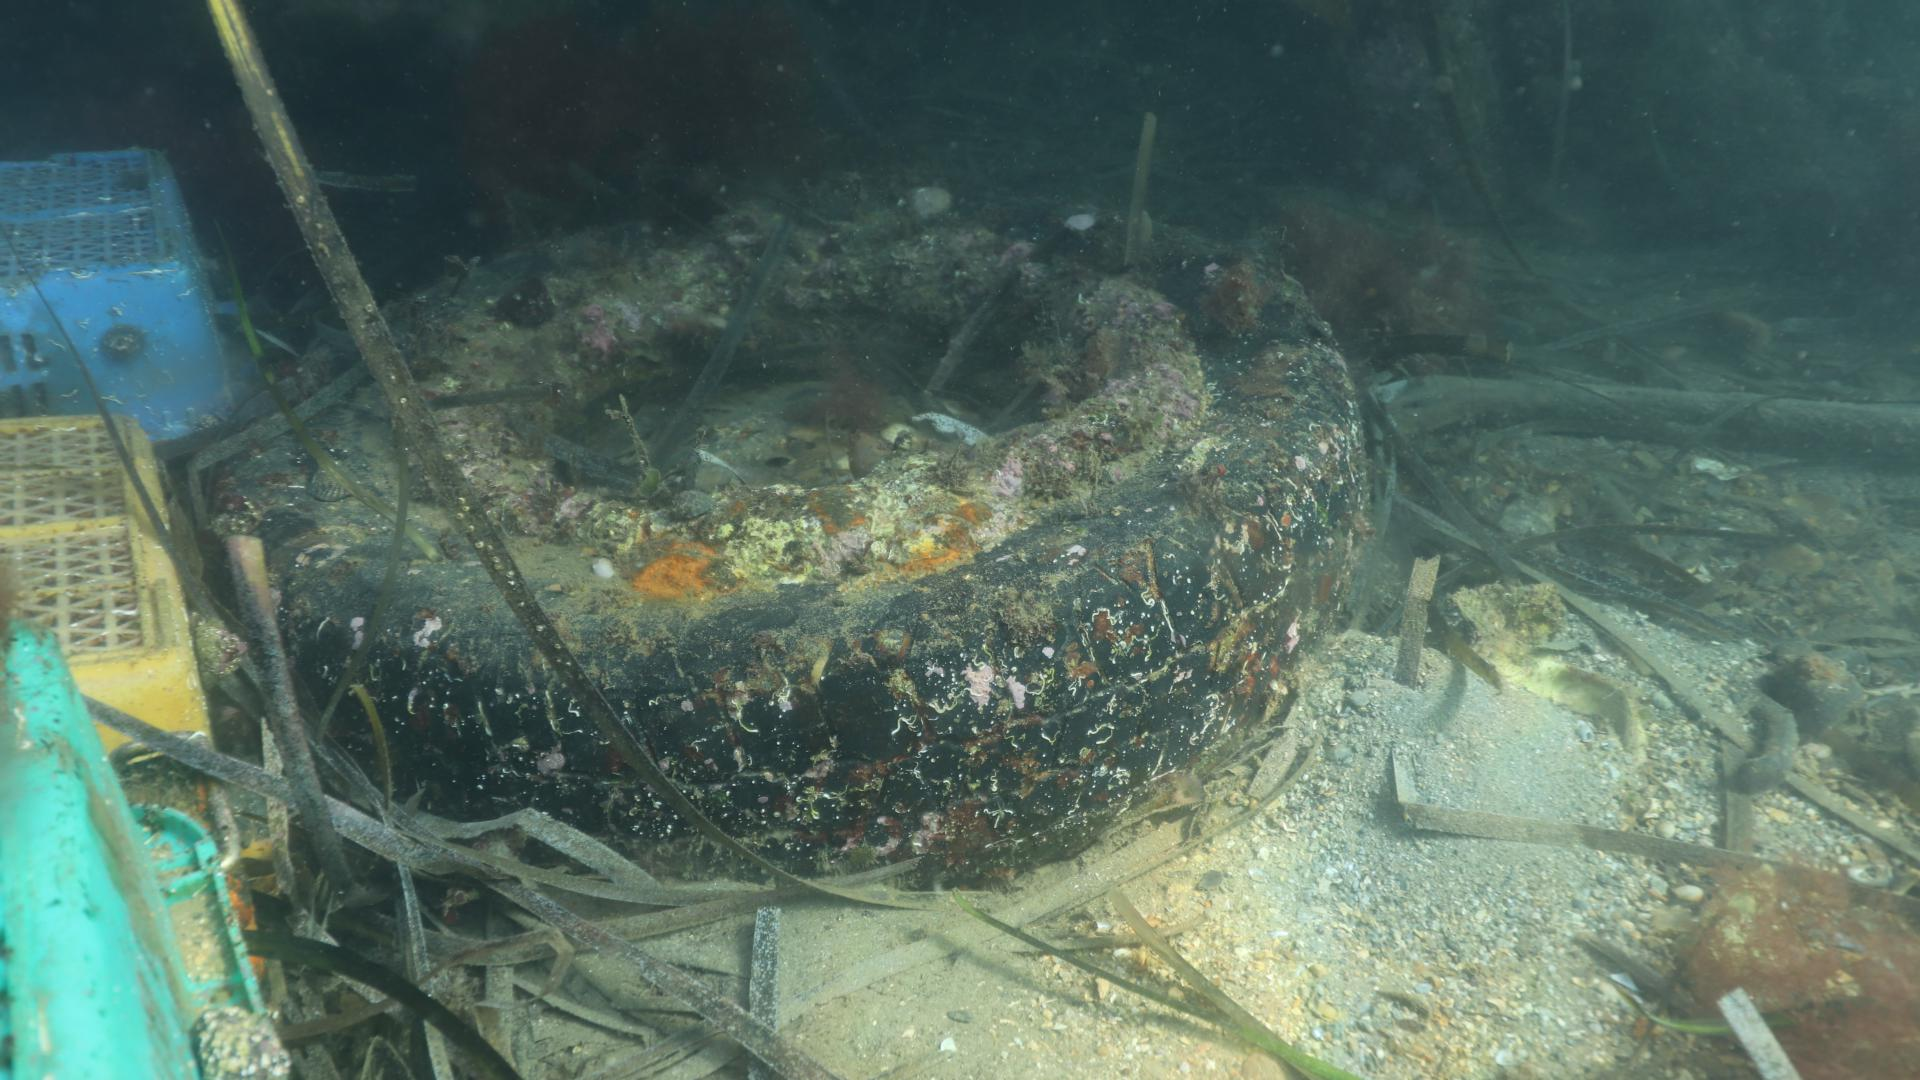tire: (203, 193, 1366, 887)
